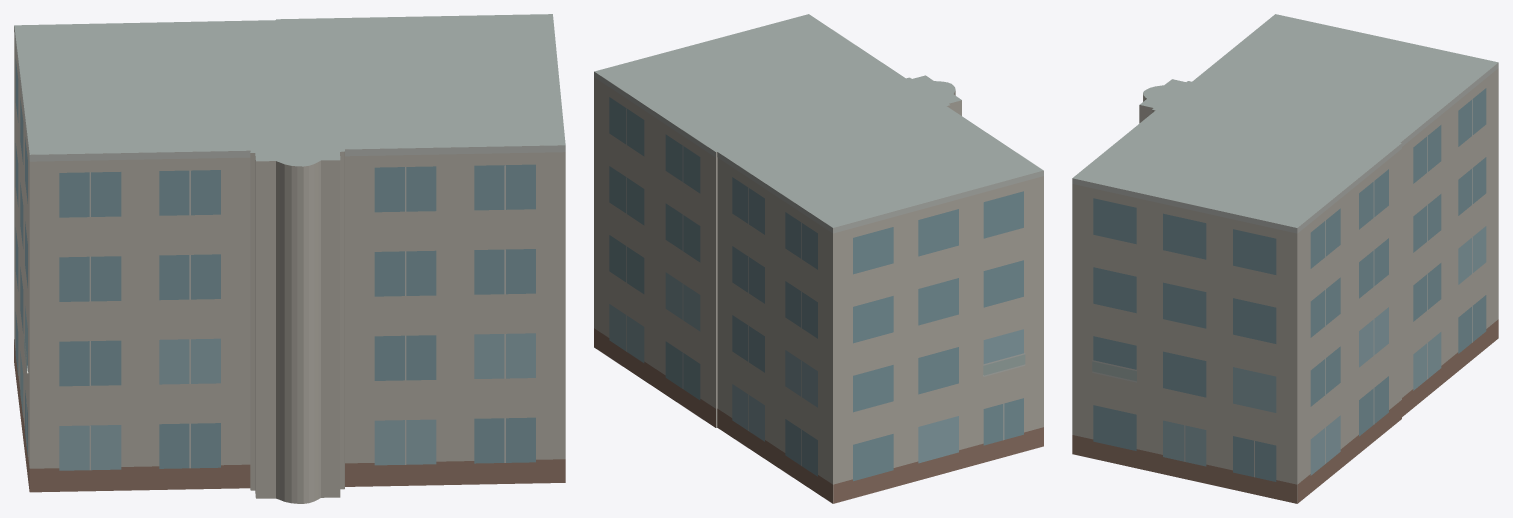
The model's file is survey-upis-33036632.glb.
3 renders of one model, left to right at view 1: azimuth 30°, elevation 25°; view 2: azimuth 150°, elevation 25°; view 3: azimuth 270°, elevation 25°, orthographic. The views are drawn at different scales.
Parts seen in each view (by area): view 1: survey-upis-33036632.tmp; view 2: survey-upis-33036632.tmp; view 3: survey-upis-33036632.tmp.
Part boxes in pixels (left/top/right/bottom): survey-upis-33036632.tmp: left=14, top=14, right=565, bottom=503; survey-upis-33036632.tmp: left=594, top=14, right=1043, bottom=503; survey-upis-33036632.tmp: left=1072, top=14, right=1498, bottom=503.
Size of the model in its own units: 20.15 by 12.1 by 16.96.
